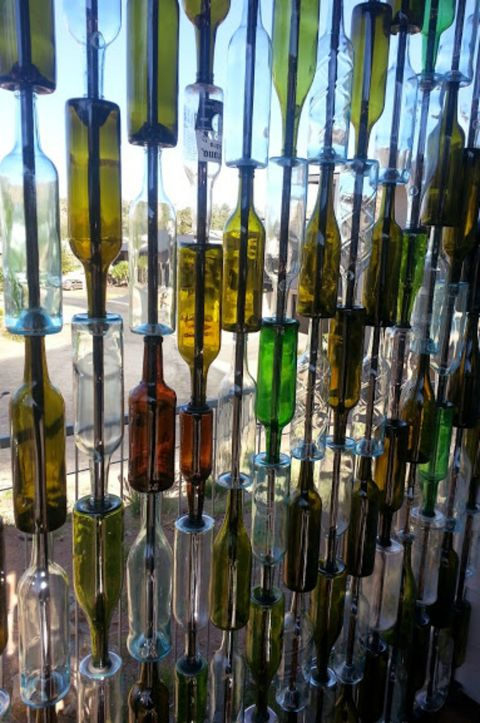glass_bottle: (1, 82, 67, 338)
